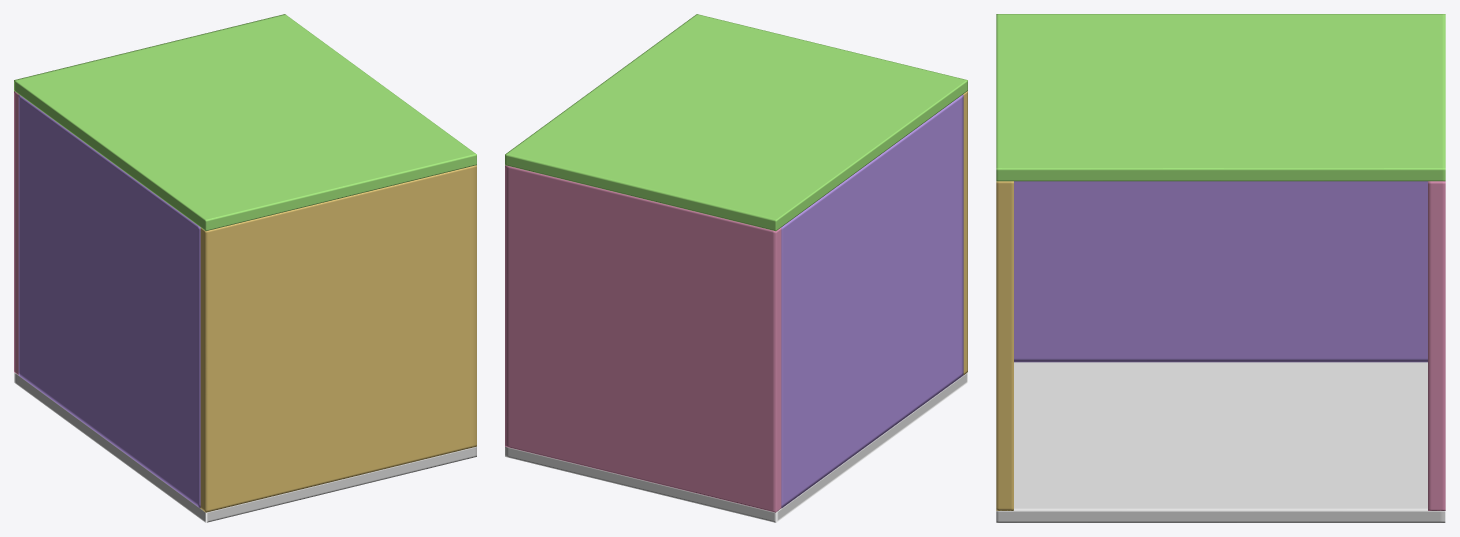
Rendered from OpenCabinet.glb.
The picture shows the model from 3 angles, left to right: view 1: azimuth 30°, elevation 25°; view 2: azimuth 150°, elevation 25°; view 3: azimuth 270°, elevation 25°; orthographic projection. The views are drawn at different scales.
Visible parts, largest first — view 1: left plank.002, top plank.002, back plank.002, bottom plank.002, right plank.002; view 2: right plank.002, top plank.002, back plank.002, bottom plank.002, left plank.002; view 3: top plank.002, back plank.002, bottom plank.002, left plank.002, right plank.002.
Part boxes in pixels (left/top/right/bottom): left plank.002: left=200, top=165, right=476, bottom=512; top plank.002: left=14, top=14, right=476, bottom=230; back plank.002: left=18, top=95, right=200, bottom=508; bottom plank.002: left=14, top=372, right=476, bottom=522; right plank.002: left=14, top=91, right=18, bottom=374; right plank.002: left=505, top=165, right=781, bottom=512; top plank.002: left=505, top=14, right=967, bottom=231; back plank.002: left=781, top=94, right=963, bottom=508; bottom plank.002: left=505, top=372, right=967, bottom=522; left plank.002: left=963, top=91, right=967, bottom=374; top plank.002: left=996, top=14, right=1445, bottom=181; back plank.002: left=1014, top=181, right=1427, bottom=362; bottom plank.002: left=996, top=362, right=1445, bottom=522; left plank.002: left=996, top=181, right=1013, bottom=510; right plank.002: left=1428, top=181, right=1445, bottom=510.
Size of the model in its own units: 1.26 by 1.34 by 1.54.
